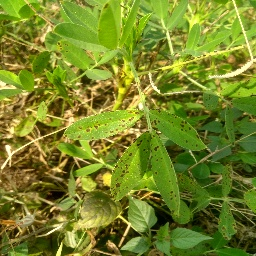GroundNut_Leaf: (111, 130, 150, 204), (148, 108, 209, 150), (53, 1, 97, 52), (153, 135, 180, 217), (62, 109, 136, 137), (98, 1, 119, 56), (220, 201, 239, 240), (55, 142, 91, 161), (224, 102, 236, 148), (219, 162, 234, 197), (185, 23, 202, 53), (18, 69, 36, 90), (157, 83, 185, 93)
